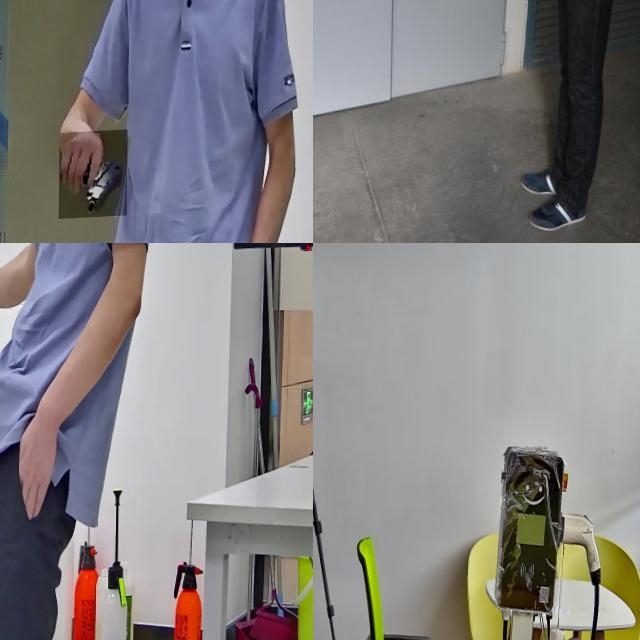-: (469, 0, 503, 12)
gun-knife-thesis - v11 Yolov5 augmented: (60, 132, 128, 222), (0, 243, 24, 324), (313, 250, 333, 342)
